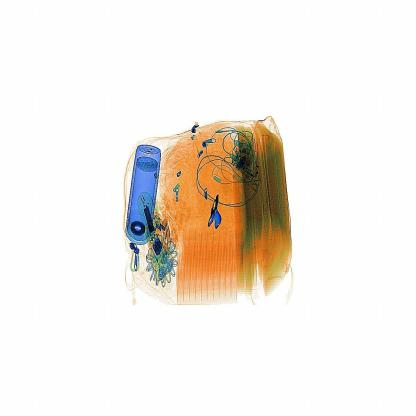wrench: (204, 182, 228, 241)
